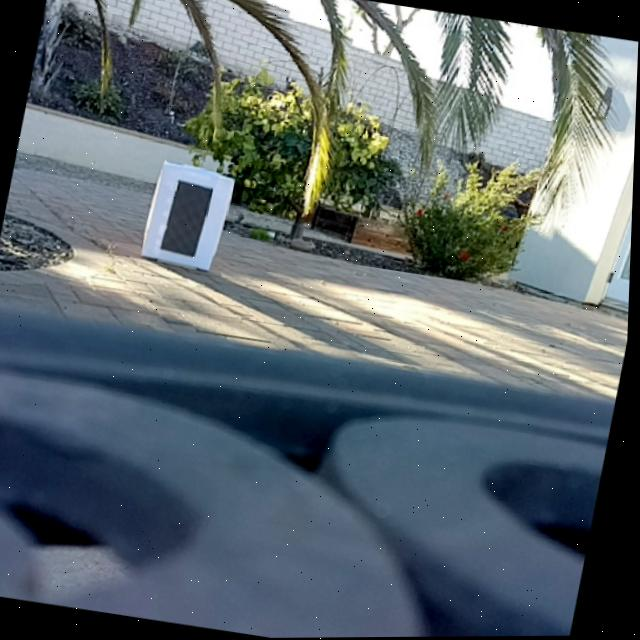led: (162, 180, 215, 259)
